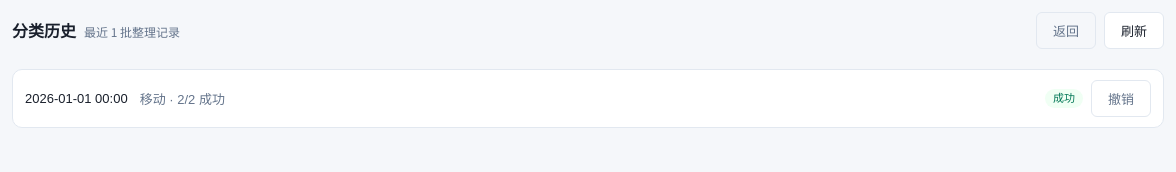
Test: ClassifyHistoryView › 打开批次后切换到明细视图
Click the text "移动 · 2/2 成功" at x=182, y=100, box [140, 92, 225, 107]
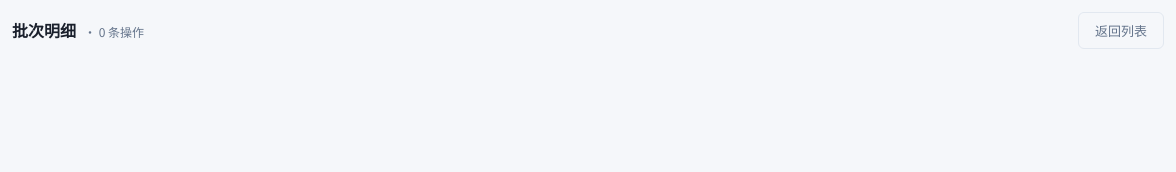
Now the heading "批次明细" is shown, box [12, 18, 76, 43]
Now the heading "分类历史" is gone
